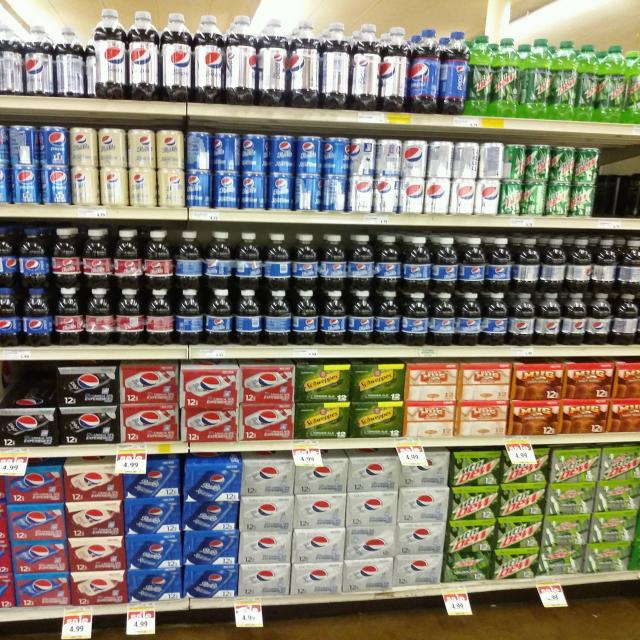empty: (597, 138, 638, 226)
